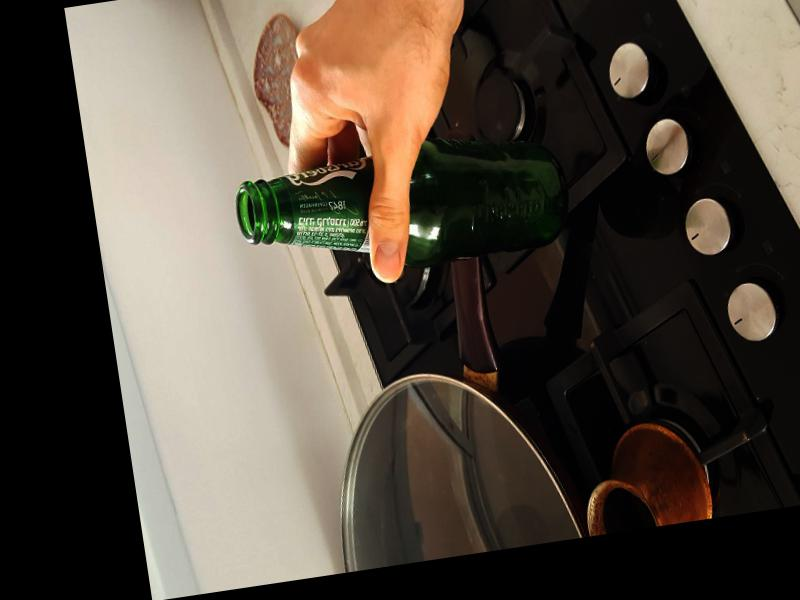Beer: (235, 133, 574, 290)
